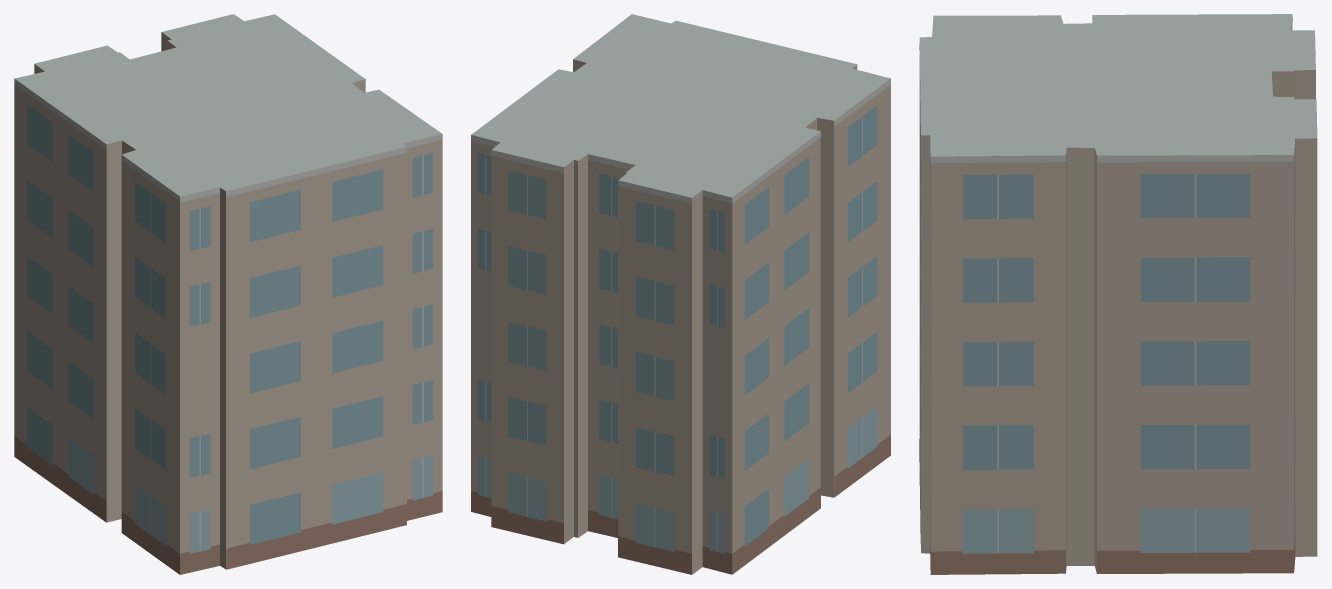
The model's file is survey-upis-32834486.glb.
The picture shows the model from 3 angles, left to right: view 1: azimuth 30°, elevation 25°; view 2: azimuth 150°, elevation 25°; view 3: azimuth 270°, elevation 25°; orthographic projection. The views are drawn at different scales.
Visible parts, largest first — view 1: survey-upis-32834486.tmp; view 2: survey-upis-32834486.tmp; view 3: survey-upis-32834486.tmp.
Part boxes in pixels (x1,y1,x2,y2): survey-upis-32834486.tmp: (14, 14, 442, 574); survey-upis-32834486.tmp: (471, 14, 890, 574); survey-upis-32834486.tmp: (919, 14, 1317, 574).
Size of the model in its own units: 11.42 by 15.6 by 13.46.
